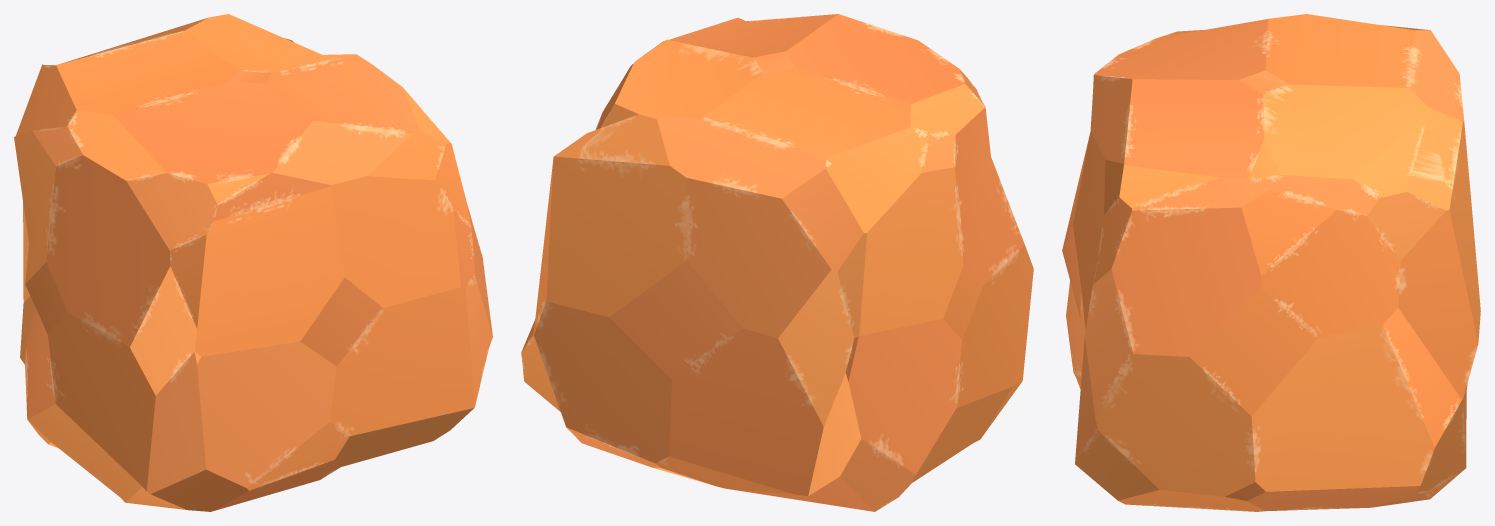
Rendered from crystal.glb.
3 views of the same model, side by side, from view 1: azimuth 30°, elevation 25°; view 2: azimuth 150°, elevation 25°; view 3: azimuth 270°, elevation 25° (orthographic). The views are drawn at different scales.
Parts seen in each view (by area): view 1: crystal; view 2: crystal; view 3: crystal.
Boxes of the visible parts, box(x1,y1,x2,y2) form: crystal: box(14, 14, 492, 511); crystal: box(521, 14, 1033, 511); crystal: box(1062, 14, 1480, 511).
Size of the model in its own units: 1.01 by 0.934 by 0.9176.
1 material, 1 textured.
